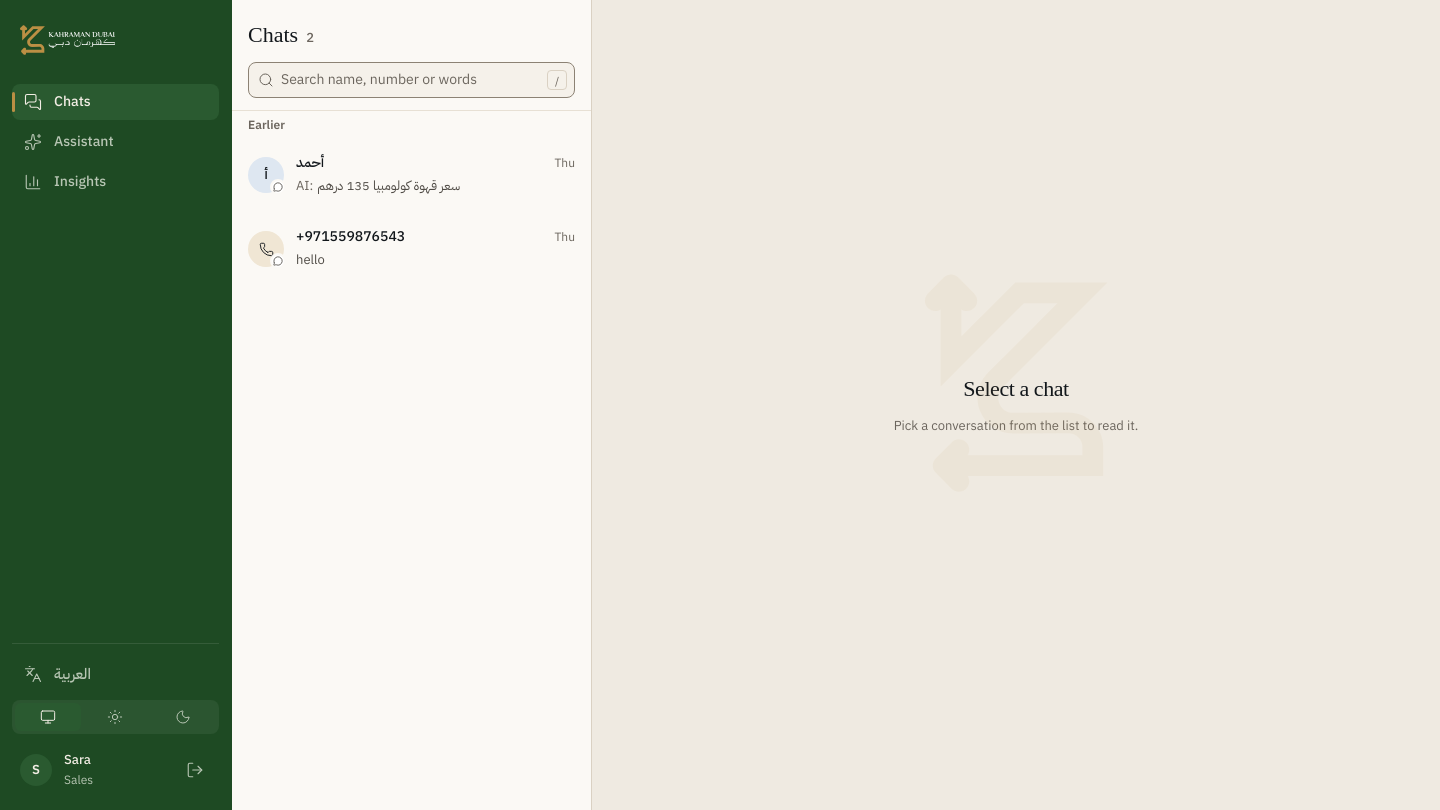
Test case: chats › searches on the server
Type "hello" into the search field at point(412, 80), box [248, 62, 575, 98]
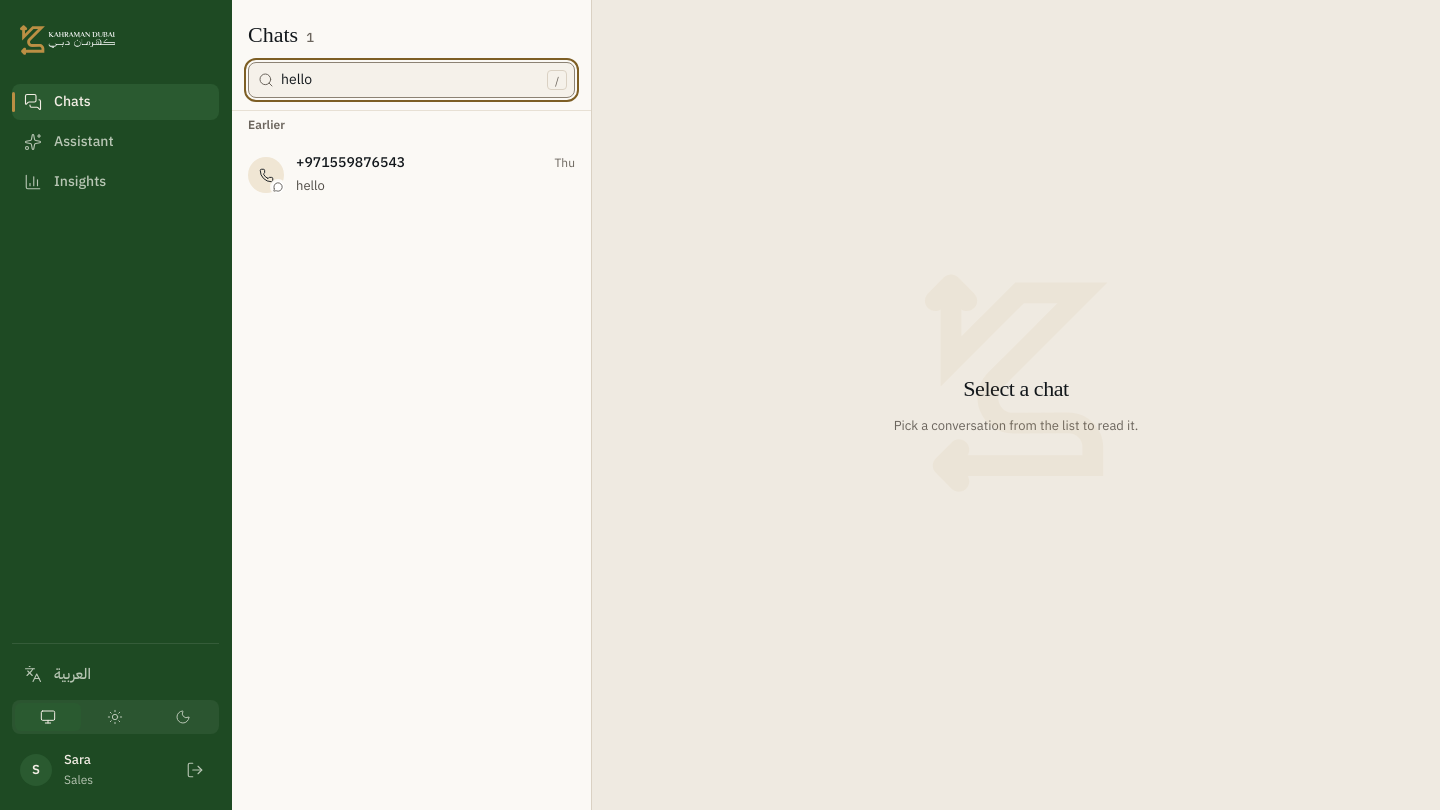
Expected: the text "+971559876543" is shown, [296, 152, 405, 174]
Now the link "أحمد" is gone
